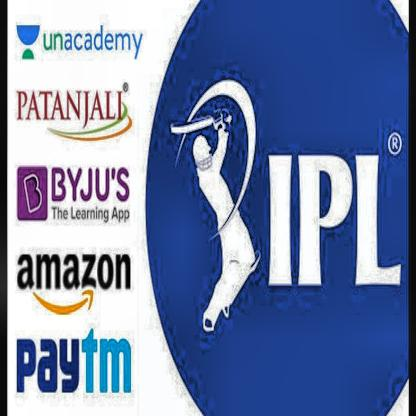Amazon: (18, 253, 131, 316)
Byjus: (18, 165, 131, 223)
IPL: (172, 78, 404, 332), (171, 79, 262, 331)
Paytm: (17, 328, 132, 393)
Unacademy: (17, 26, 143, 61)
